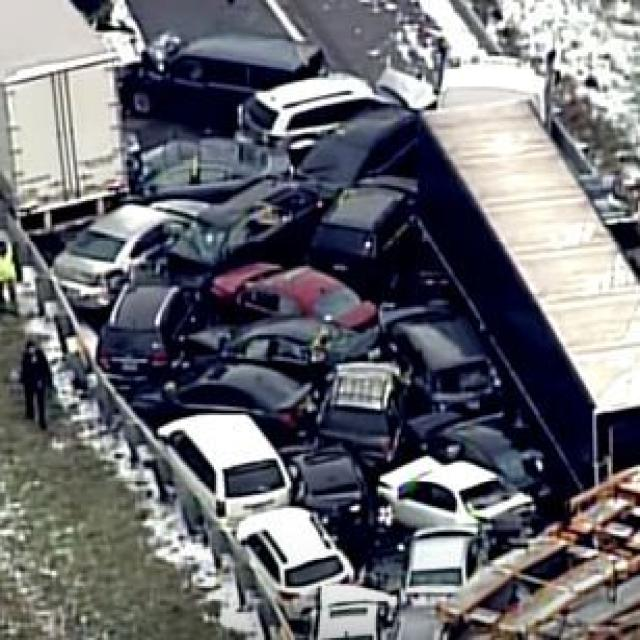traffic_incident: (79, 9, 501, 443)
